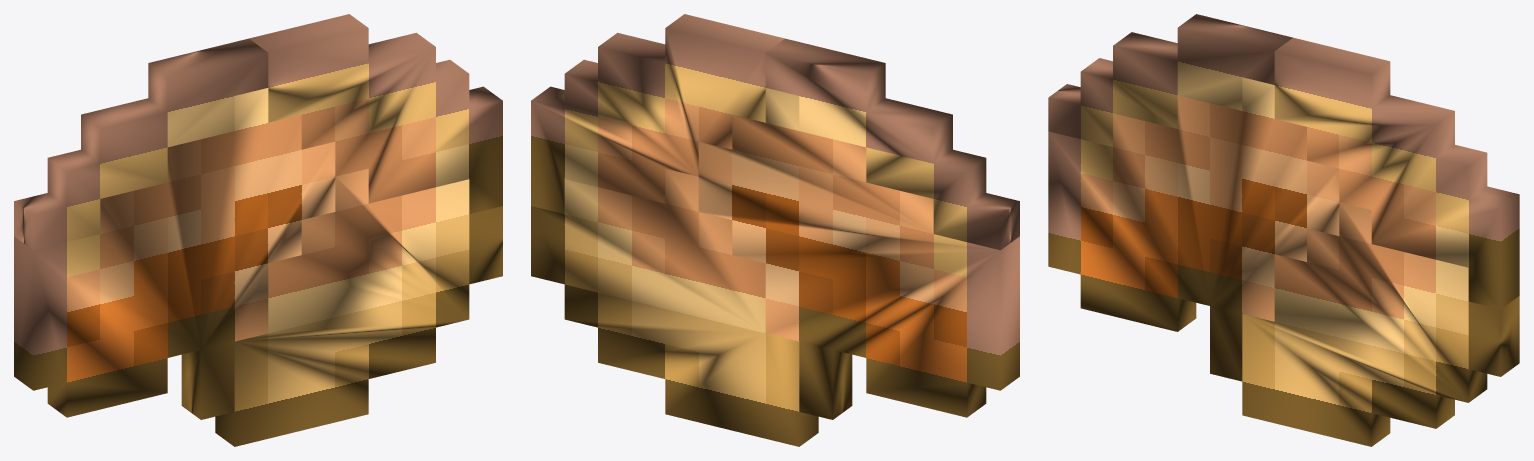
File: 南瓜派.obj
3 renders of one model, left to right at view 1: azimuth 30°, elevation 25°; view 2: azimuth 150°, elevation 25°; view 3: azimuth 330°, elevation 25°, orthographic. The views are drawn at different scales.
Visible parts, largest first — view 1: mesh_mask_3, mesh_mask_4, mesh_mask_2, mesh_mask_1; view 2: mesh_mask_3, mesh_mask_4, mesh_mask_2, mesh_mask_1; view 3: mesh_mask_3, mesh_mask_4, mesh_mask_2, mesh_mask_1.
Boxes of the visible parts, <box> form: mesh_mask_3: <box>14,88,335,419</box>; mesh_mask_4: <box>215,168,502,446</box>; mesh_mask_2: <box>249,14,502,213</box>; mesh_mask_1: <box>14,38,268,250</box>; mesh_mask_3: <box>698,88,1019,419</box>; mesh_mask_4: <box>531,168,818,446</box>; mesh_mask_2: <box>531,14,784,213</box>; mesh_mask_1: <box>765,38,1019,250</box>; mesh_mask_3: <box>1048,77,1339,381</box>; mesh_mask_4: <box>1242,202,1519,446</box>; mesh_mask_2: <box>1274,37,1519,309</box>; mesh_mask_1: <box>1048,14,1292,146</box>.
Size of the model in its own units: 14 by 11 by 1.
